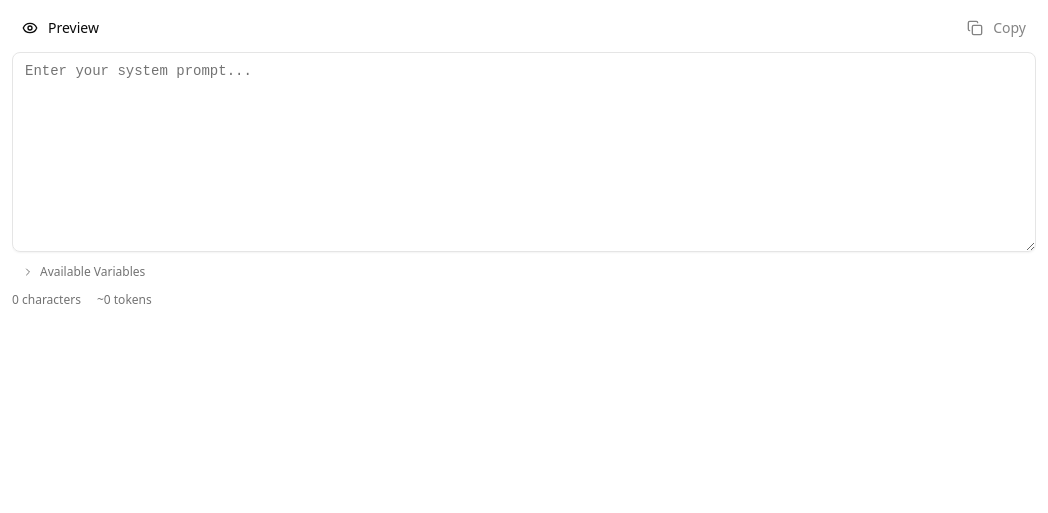
PromptEditor › shows engine note and basic templating snippets in the helper panel
Click the button "Available Variables" at (84, 272), box [12, 264, 155, 280]
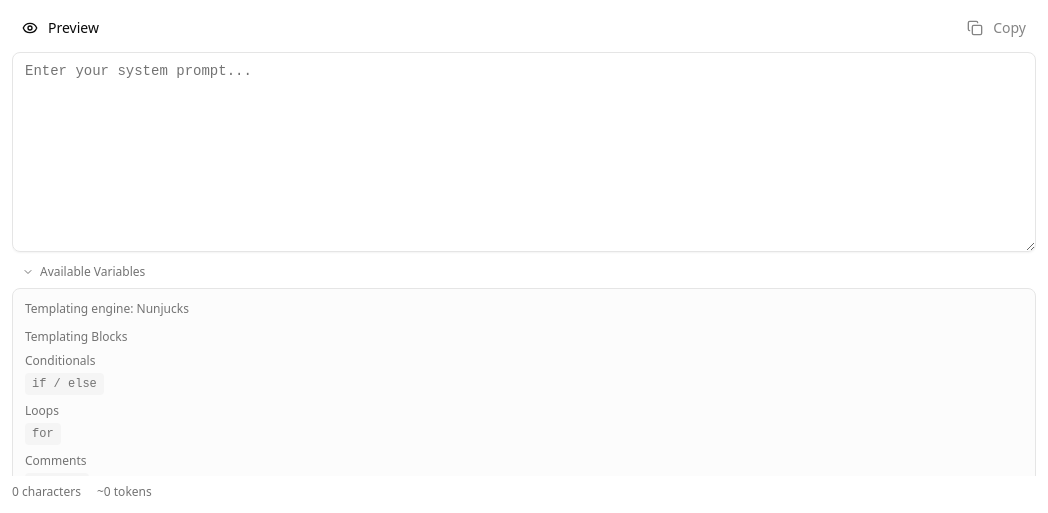
Expected: the text "Templating engine: Nunjucks" is shown, [25, 300, 189, 317]
Expected: the button "if / else" is shown, [25, 373, 104, 395]
Expected: the button "for" is shown, [25, 423, 61, 445]
